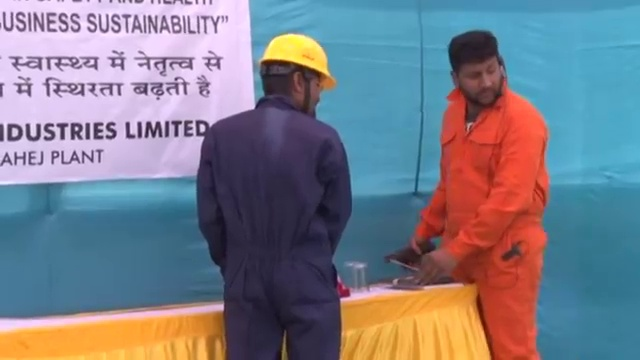helmet: (259, 31, 335, 86)
helmet_off: (445, 28, 510, 113)
helmet_on: (258, 30, 335, 112)
person: (192, 30, 351, 360), (413, 27, 552, 360)
